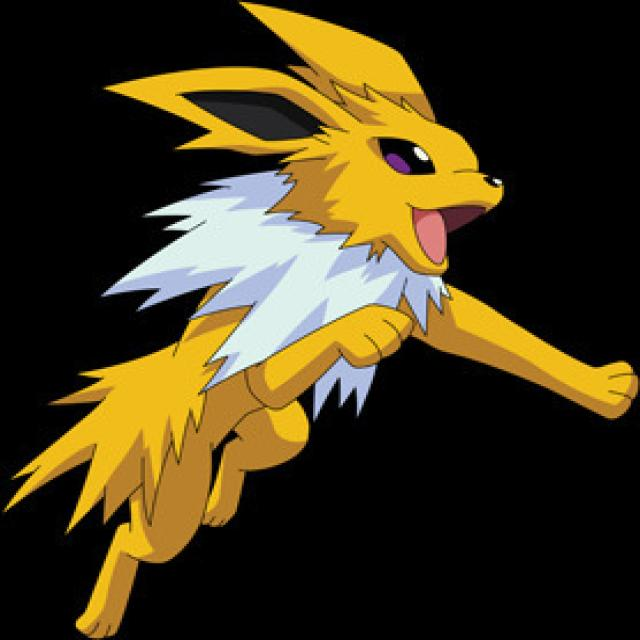Jolteon: (39, 3, 480, 545)
